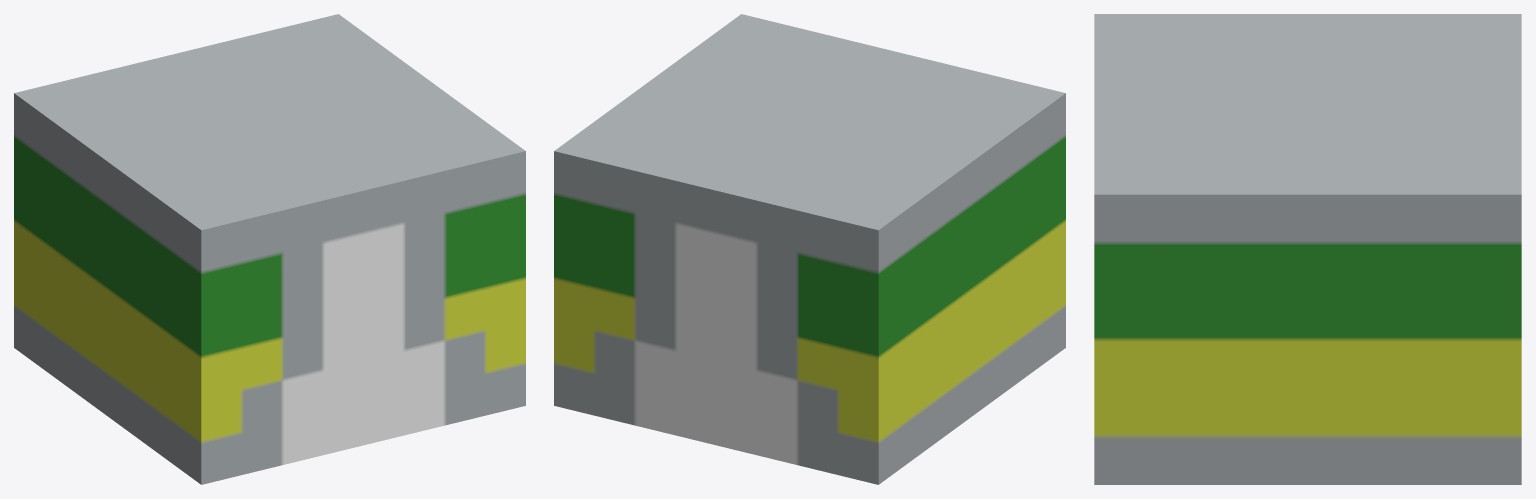
The model's file is Spine018.fbx.
The picture shows the model from 3 angles, left to right: view 1: azimuth 30°, elevation 25°; view 2: azimuth 150°, elevation 25°; view 3: azimuth 270°, elevation 25°; orthographic projection. The views are drawn at different scales.
Visible parts, largest first — view 1: Spine018; view 2: Spine018; view 3: Spine018.
Part boxes in pixels (x1,y1,x2,y2): Spine018: [14, 14, 525, 484]; Spine018: [554, 14, 1065, 484]; Spine018: [1094, 14, 1521, 484].
Bounding box in the file's own units: 8 × 6 × 8.
